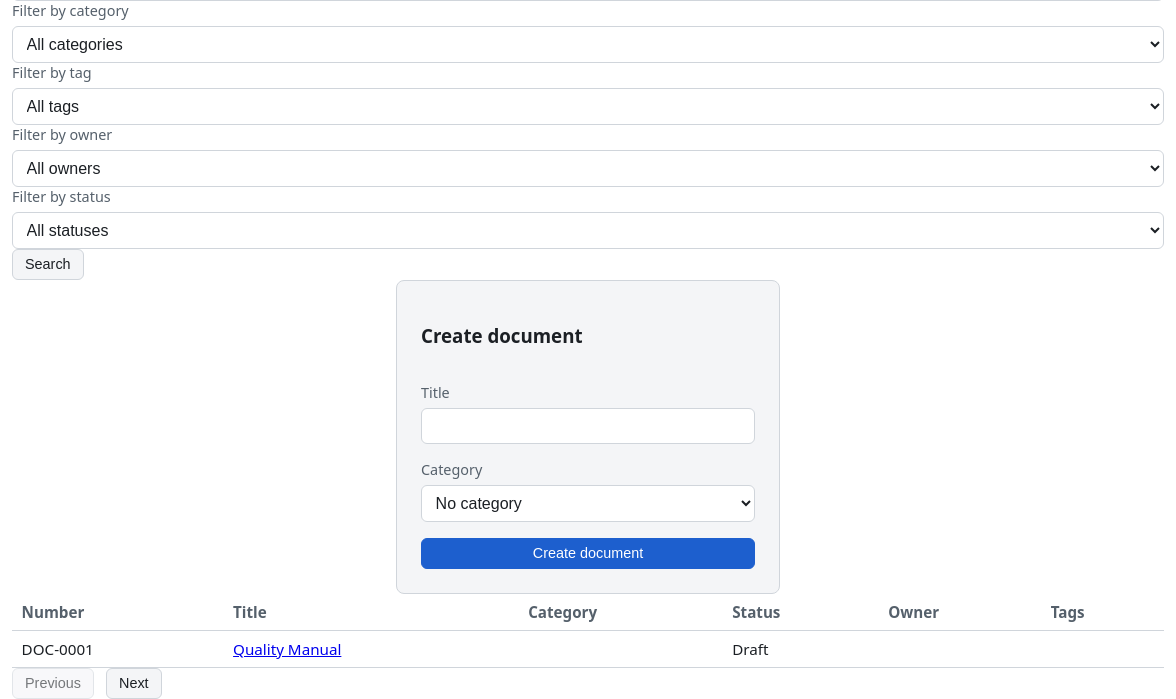
DocumentsPage › paginates using the total count
The width and height of the screenshot is (1176, 699).
(page scrolled)
expect the link "Quality Manual" is shown: met, box x1=233 y1=639 x2=341 y2=659
expect the button "Previous" is disabled: met, box x1=12 y1=668 x2=94 y2=698
Click the button "Next".
click(134, 683)  # box x1=106 y1=668 x2=162 y2=698
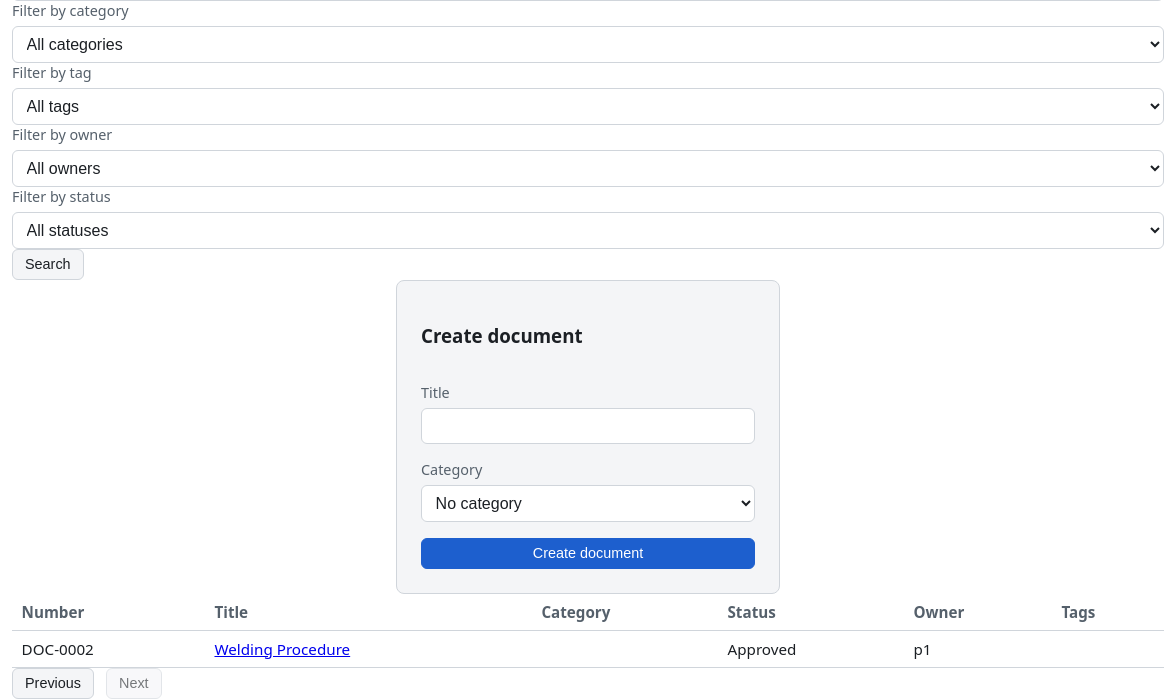
expect the link "Welding Procedure" is shown: met, box x1=214 y1=639 x2=350 y2=659
expect the button "Next" is disabled: met, box x1=106 y1=668 x2=162 y2=698
